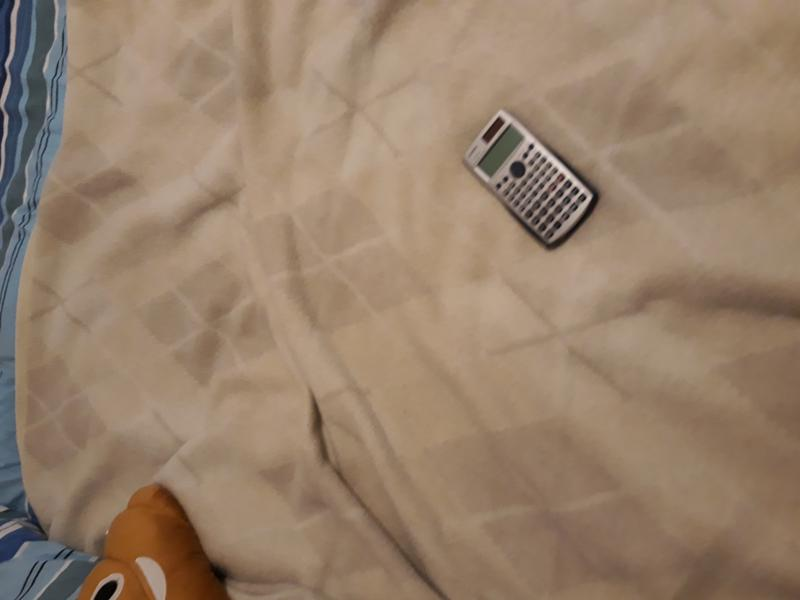CASIO_fx_991ES: (454, 91, 606, 269)
